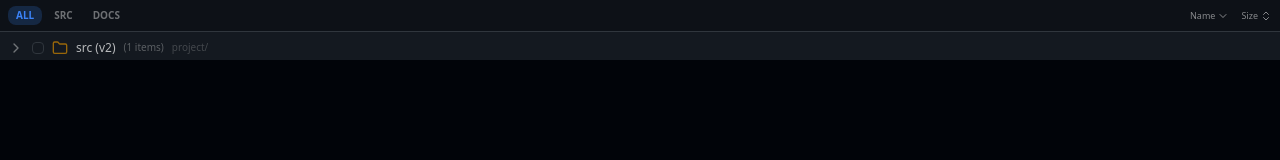
Test case: FileTree Path-Based Behavior › Paths as unique identifiers › should handle paths with special characters
Expected: the text "src (v2)" is shown, [76, 38, 116, 56]
Click the button with test id "expand-icon". click: click(16, 48)
box: [6, 38, 26, 58]
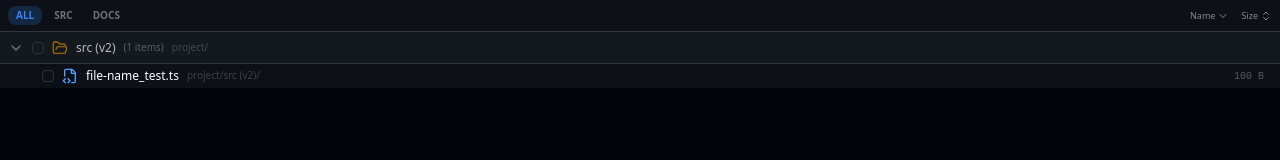
Expected: the text "file-name_test.ts" is shown, [86, 66, 179, 84]
